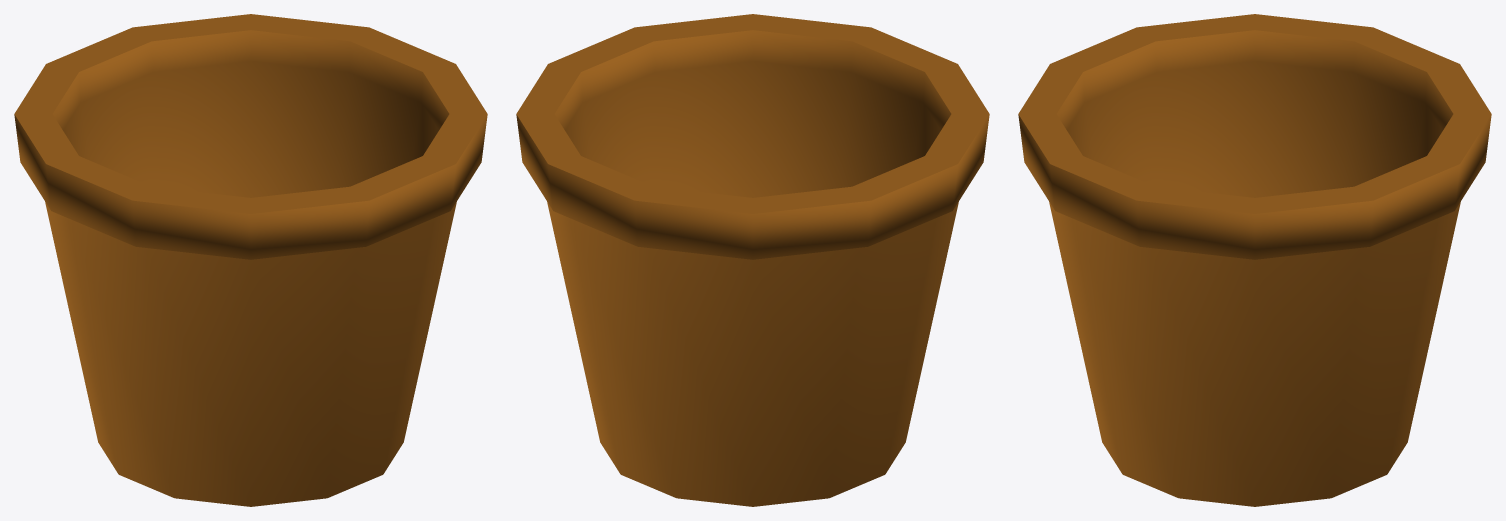
File: vase-01.fbx
3 renders of one model, left to right at view 1: azimuth 30°, elevation 25°; view 2: azimuth 150°, elevation 25°; view 3: azimuth 270°, elevation 25°, orthographic.
Visible parts, largest first — view 1: vase-01; view 2: vase-01; view 3: vase-01.
Boxes of the visible parts, x1,y1,x2,y2 form: vase-01: (14,14,487,506); vase-01: (516,14,989,506); vase-01: (1018,14,1491,506).
Bounding box in the file's own units: 620 × 474 × 620.
